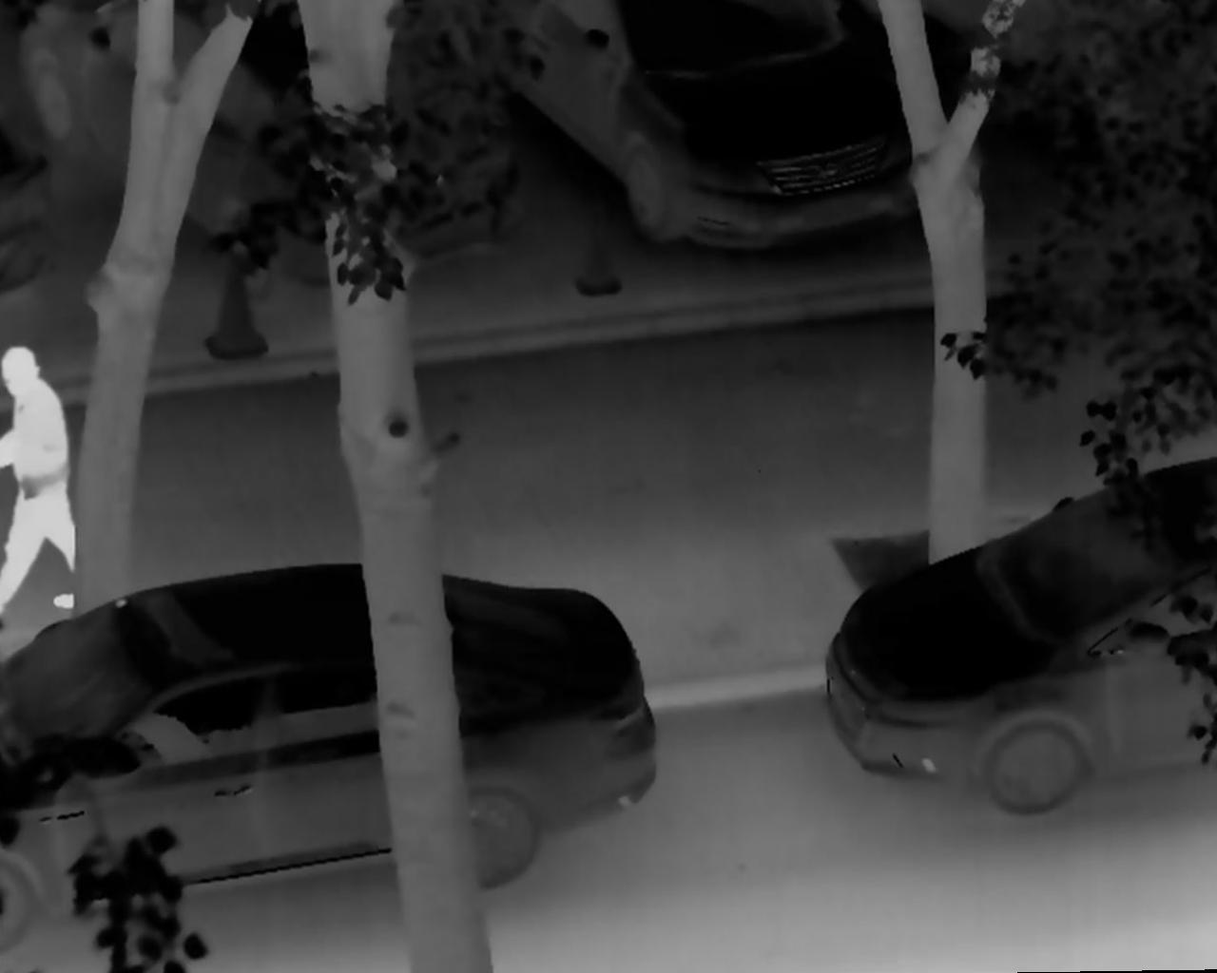person: (3, 336, 82, 619)
